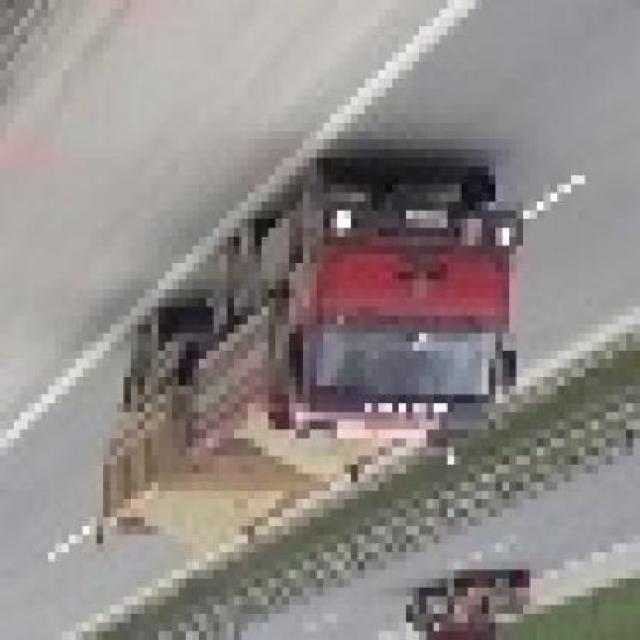truck: (97, 185, 531, 562)
